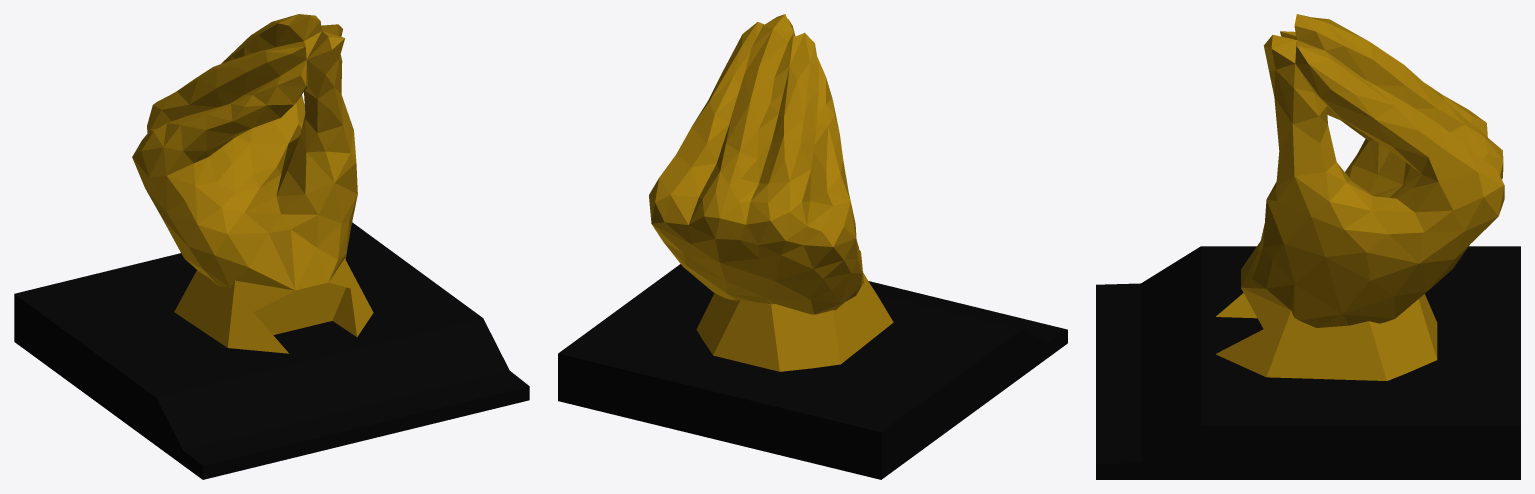
3 views of the same model, side by side, from view 1: azimuth 30°, elevation 25°; view 2: azimuth 150°, elevation 25°; view 3: azimuth 270°, elevation 25° (orthographic). The views are drawn at different scales.
Parts seen in each view (by area): view 1: base.022, hand_sx; view 2: base.022, hand_sx; view 3: base.022, hand_sx.
Boxes of the visible parts, x1,y1,x2,y2 form: base.022: [14, 222, 529, 479]; hand_sx: [132, 14, 373, 353]; base.022: [558, 264, 1067, 479]; hand_sx: [649, 14, 893, 371]; base.022: [1096, 246, 1520, 479]; hand_sx: [1216, 14, 1504, 380].
Size of the model in its own units: 79.88 by 81.84 by 79.88.
